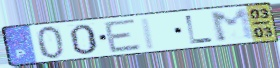0: (35, 25, 66, 60), (68, 23, 100, 56)
E: (102, 17, 144, 54)
I: (139, 16, 158, 51)
L: (184, 14, 216, 45)
M: (208, 7, 258, 44)
